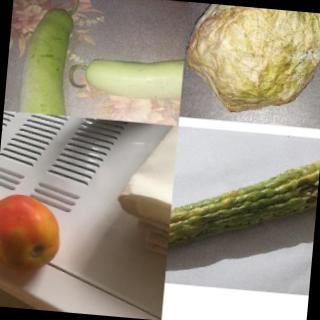Tomat: (1, 182, 69, 282)
